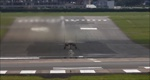maybay_muctieu: (58, 34, 85, 50)
